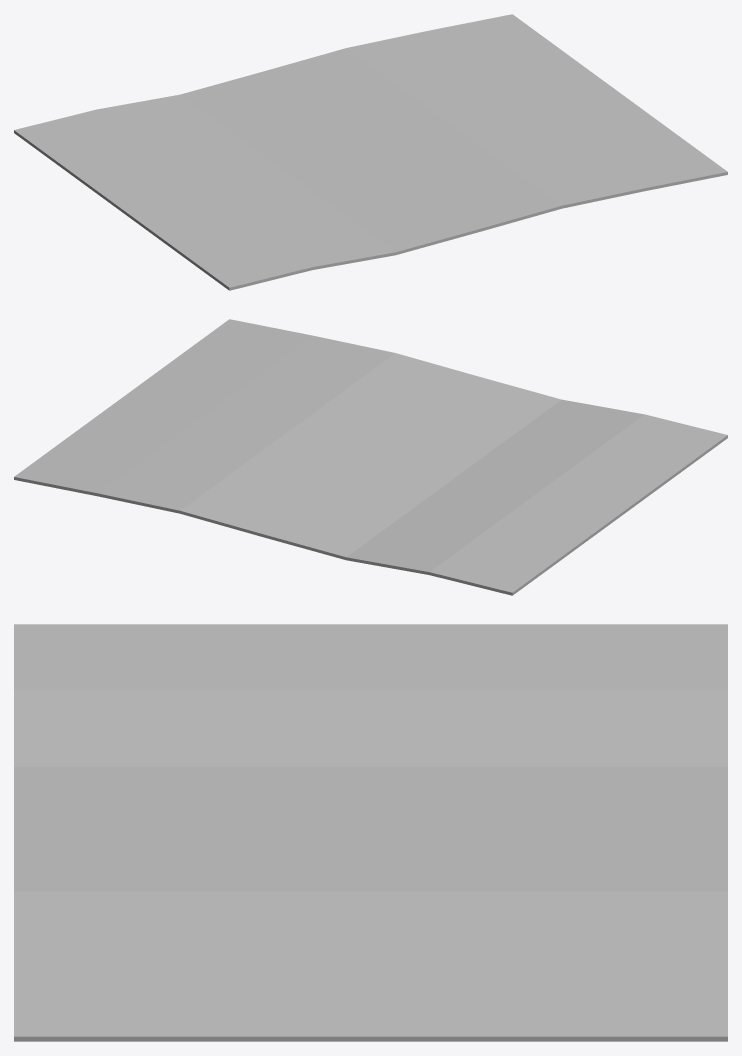
The model's file is Papir_1.fbx.
3 views of the same model, one above another, from view 1: azimuth 30°, elevation 25°; view 2: azimuth 150°, elevation 25°; view 3: azimuth 270°, elevation 25° (orthographic). The views are drawn at different scales.
Parts seen in each view (by area): view 1: Papir; view 2: Papir; view 3: Papir.
Part boxes in pixels (x1,y1,x2,y2): Papir: [14, 14, 727, 290]; Papir: [14, 319, 727, 595]; Papir: [14, 624, 727, 1041].
Size of the model in its own units: 104 by 1.94 by 78.12.
